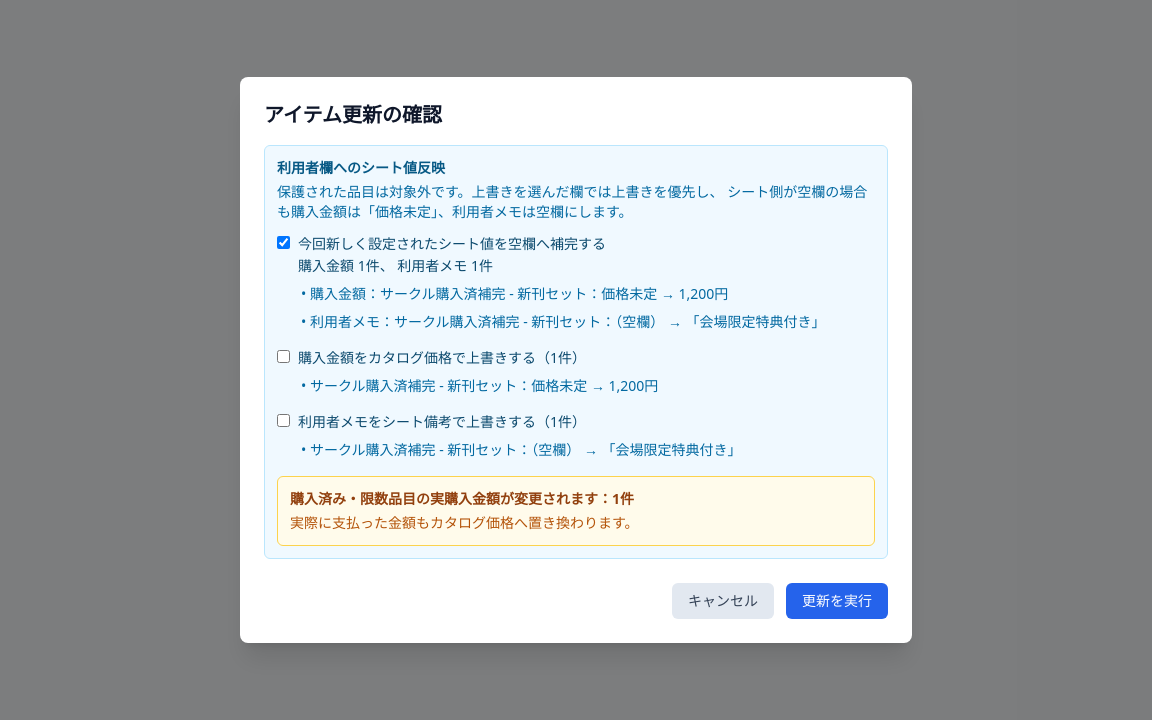
Test case: UpdateConfirmationModal app field synchronization › 既定の空欄補完でも購入済み品目の購入金額変更を警告する
Expected: the message shows "購入済み・限数品目の実購入金額が変更されます：1件", [277,476,875,546]
Click the checkbox labelled "今回新しく設定されたシート値を空欄へ補完する 購入金額 1件、 利用者メモ 1件" at x=284, y=242, box [277,236,290,249]
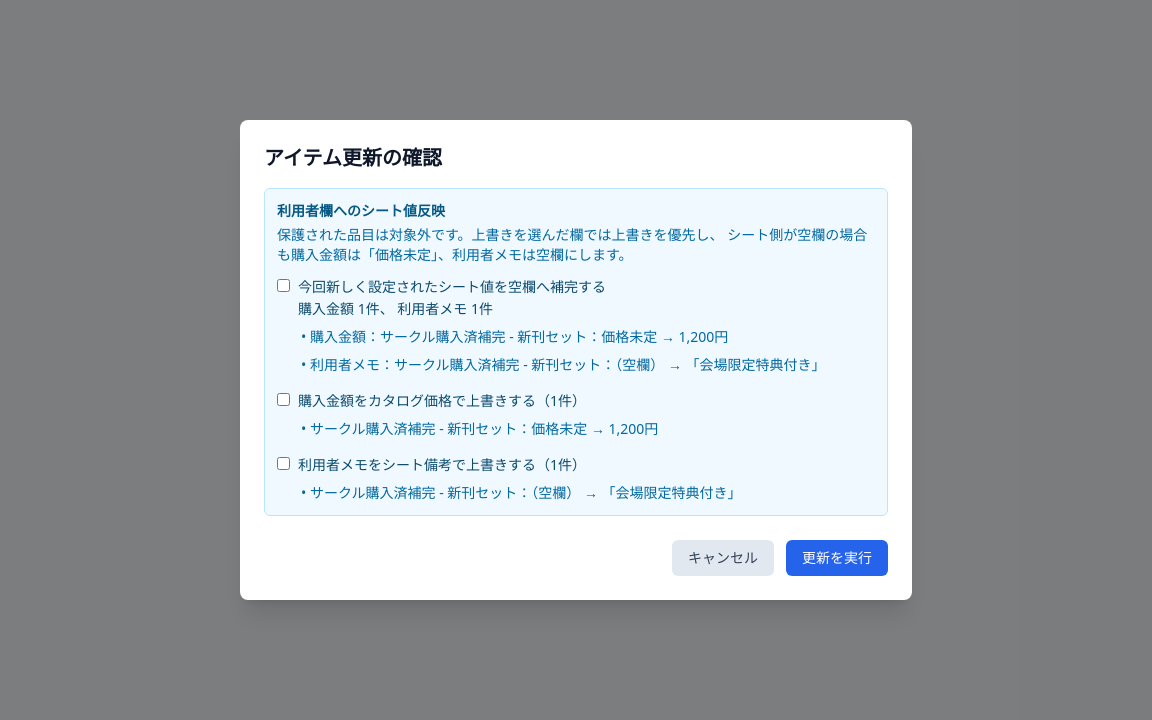
Expected: the message "購入済み・限数品目の実購入金額が変更されます：1件 実際に支払った金額もカタログ価格へ置き換わります。" is gone
